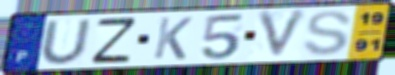5: (198, 12, 246, 62)
K: (150, 16, 195, 61)
S: (302, 9, 355, 57)
U: (38, 17, 94, 66)
V: (255, 7, 312, 62)
Z: (90, 15, 139, 65)
